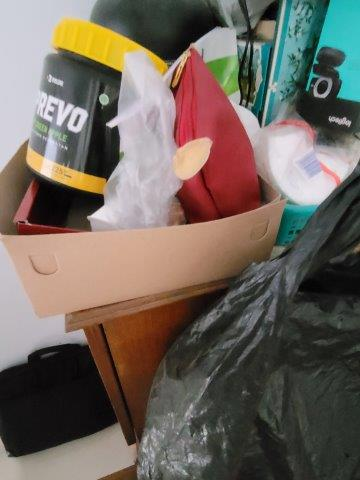plastik: (138, 175, 360, 480), (92, 53, 175, 226)
